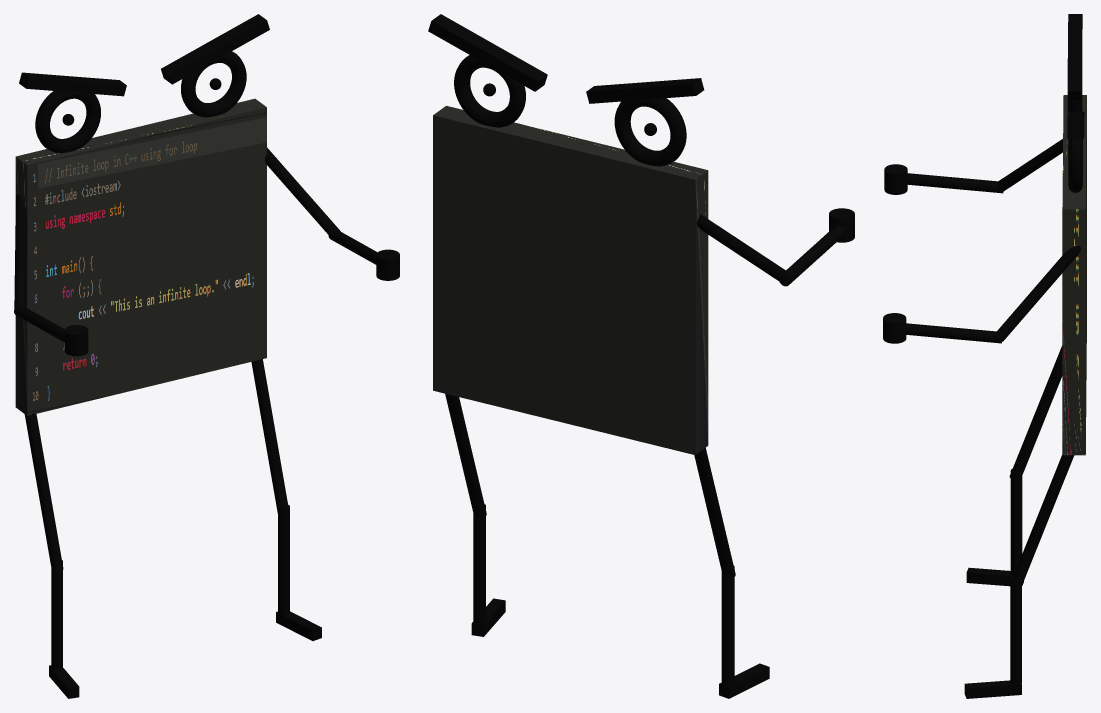
The model's file is template.fbx.
3 views of the same model, side by side, from view 1: azimuth 30°, elevation 25°; view 2: azimuth 150°, elevation 25°; view 3: azimuth 270°, elevation 25° (orthographic). The views are drawn at different scales.
Parts seen in each view (by area): view 1: Cube, Cube.003, Torus.001, Torus, Cylinder.005, Cylinder.004, Cube.004, Cylinder.001, Cylinder, Cylinder.006, Cylinder.010, Cube.001 (+4 smaller); view 2: Cube, Cube.003, Torus.001, Torus, Cube.004, Cylinder.005, Cylinder.004, Cylinder.010, Cylinder.001, Cylinder.006, Cylinder.009, Cube.002 (+1 smaller); view 3: Cube, Cylinder.004, Cylinder.005, Cylinder, Cube.004, Cylinder.006, Cylinder.010, Cylinder.002, Cylinder.009, Cylinder.001, Cube.001, Torus (+4 smaller).
Part boxes in pixels (box(x1,y1,x2,y2)): Cube: box(15, 98, 266, 415); Cube.003: box(161, 14, 269, 84); Torus.001: box(35, 91, 100, 153); Torus: box(181, 51, 246, 117); Cylinder.005: box(24, 413, 63, 571); Cylinder.004: box(251, 359, 289, 515); Cube.004: box(19, 72, 126, 96); Cylinder.001: box(14, 194, 27, 311); Cylinder: box(265, 147, 340, 235); Cylinder.006: box(278, 505, 289, 614); Cylinder.010: box(51, 560, 62, 669); Cube.001: box(276, 611, 321, 640); Cube: box(433, 105, 708, 454); Cube.003: box(428, 14, 547, 91); Torus.001: box(614, 98, 686, 166); Torus: box(454, 55, 525, 127); Cube.004: box(586, 78, 704, 103); Cylinder.005: box(694, 448, 735, 577); Cylinder.004: box(445, 393, 486, 517); Cylinder.010: box(721, 566, 734, 685); Cylinder.001: box(696, 214, 791, 284); Cylinder.006: box(473, 504, 485, 625); Cylinder.009: box(779, 225, 846, 286); Cube.002: box(719, 663, 769, 698); Cube: box(1062, 95, 1086, 455); Cylinder.004: box(1010, 455, 1074, 586); Cylinder.005: box(1009, 345, 1062, 480); Cylinder: box(996, 245, 1080, 341); Cube.004: box(1067, 14, 1082, 99); Cylinder.006: box(1010, 576, 1021, 684); Cylinder.010: box(1010, 468, 1022, 575); Cylinder.002: box(904, 323, 1002, 343); Cylinder.009: box(907, 173, 1003, 193); Cylinder.001: box(998, 139, 1062, 190); Cube.001: box(964, 680, 1021, 698); Torus: box(1068, 139, 1082, 192).
Size of the model in its own units: 649 by 1088 by 353.
